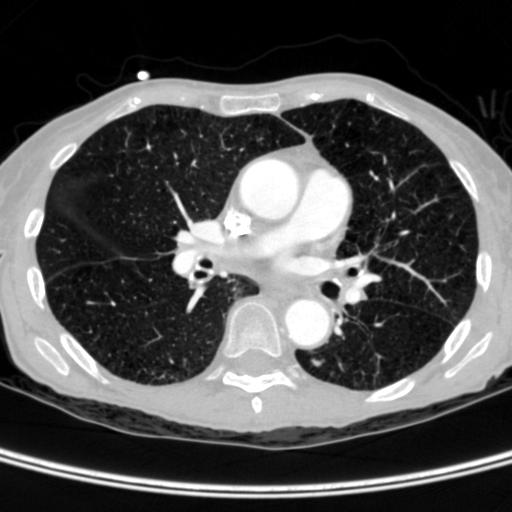nodule: (310, 356, 324, 370)
